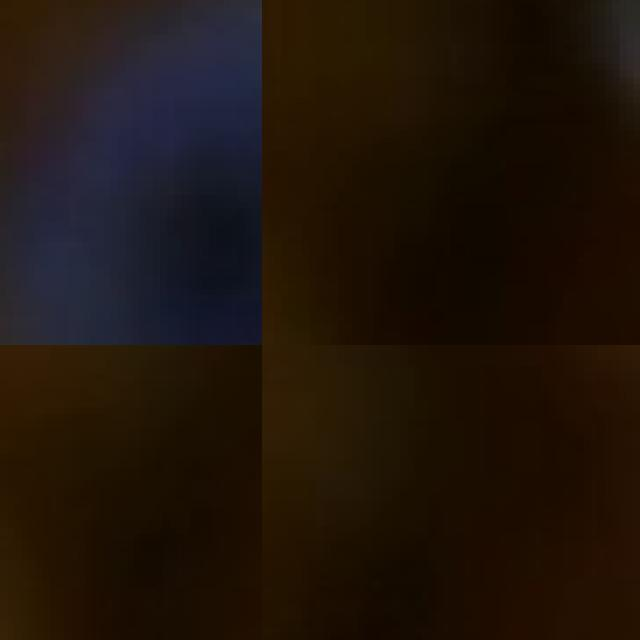fish: (0, 0, 262, 345), (0, 345, 262, 640)
